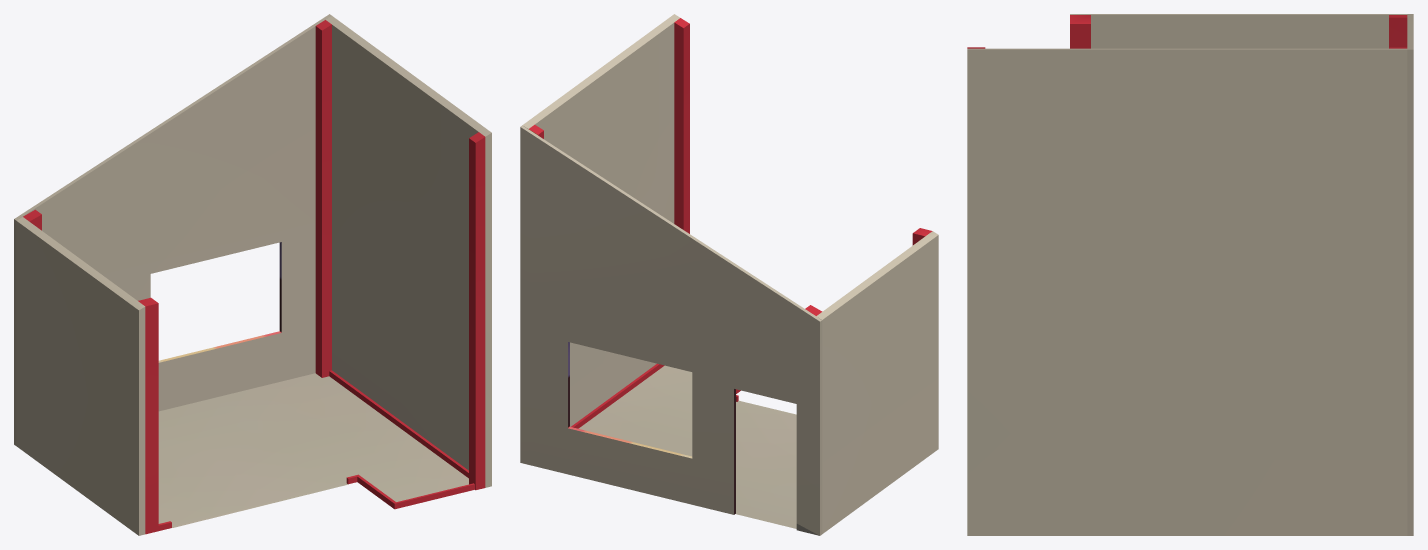
Rendered from postoffice_interior_1.fbx.
3 renders of one model, left to right at view 1: azimuth 30°, elevation 25°; view 2: azimuth 150°, elevation 25°; view 3: azimuth 270°, elevation 25°, orthographic. The views are drawn at different scales.
Parts seen in each view (by area): view 1: polySurface922; view 2: polySurface922; view 3: polySurface922.
Boxes of the visible parts, x1,y1,x2,y2 form: polySurface922: (14, 14, 491, 535); polySurface922: (520, 14, 938, 535); polySurface922: (967, 14, 1413, 535).
Bounding box in the file's own units: 40.36 × 43.22 × 35.94.
Materials: 1 (1 with a texture image).
